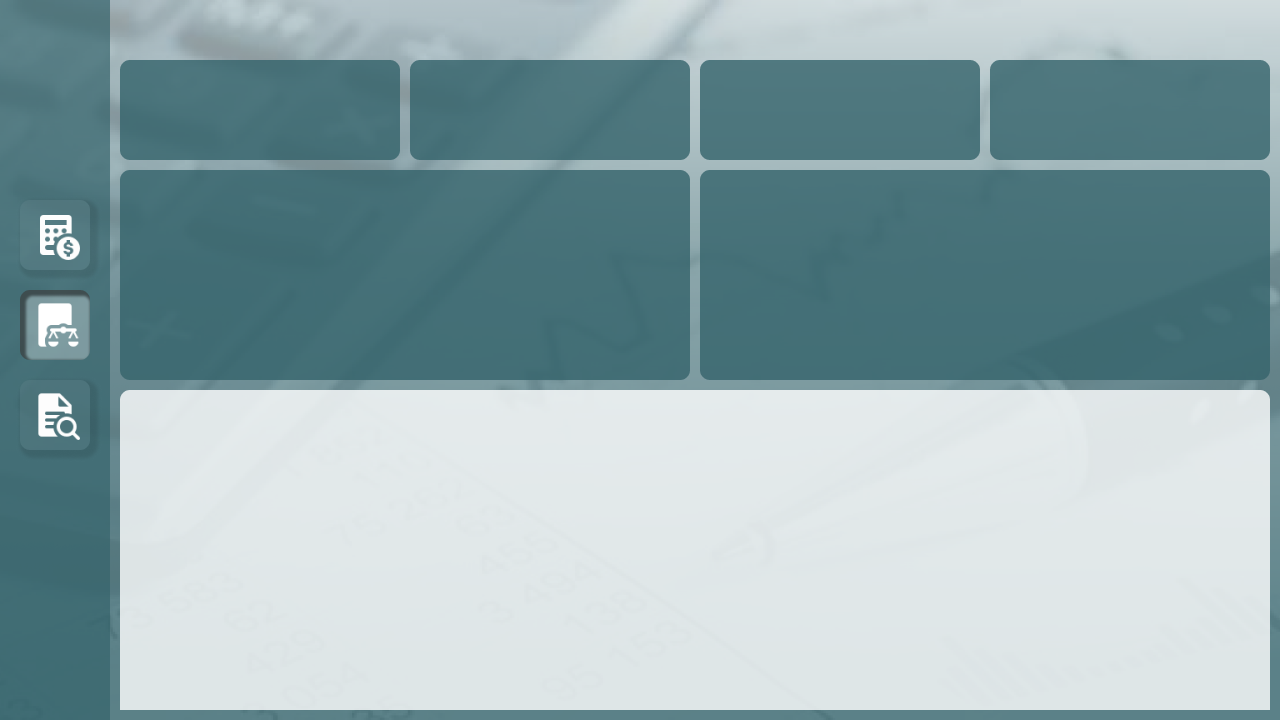

Layout of this report page (visuals, bound fields, positions):
{"tool":"powerbi","page":{"name":"BP","canvas":[1280,720],"ordinal":1},"visuals":[{"type":"pivotTable","fields":{"Rows":["dPlanodecontas.Grupo","dPlanodecontas.Subgrupo","dPlanodecontas.categoria","dPlanodecontas.Descricao_conta"],"Columns":["dCalendario.Ano"],"Values":["BP.Medida","BP.AV BP","BP.AH BP"]},"box":[123.3,389.3,1144.2,320],"z":0},{"type":"clusteredBarChart","title":"Ativo","fields":{"Y":["Medidas.Ativo"],"Category":["dPlanodecontas.Subgrupo"]},"box":[123.3,170.4,565.2,210.6],"z":1000},{"type":"clusteredBarChart","title":"Passivo","fields":{"Category":["dPlanodecontas.Subgrupo"],"Y":["Medidas.Passivo"]},"box":[698.2,170.4,569.4,210.6],"z":2000},{"type":"card","fields":{"Values":["Medidas.Composição do Endividamento"]},"box":[123.3,58.2,274.3,99.7],"z":3000},{"type":"card","fields":{"Values":["Medidas.Participação Capital Terceiros"]},"box":[411.4,58.2,277.1,102.5],"z":4000},{"type":"card","fields":{"Values":["Medidas.LG"]},"box":[989.1,58.2,278.4,102.5],"z":5000},{"type":"card","fields":{"Values":["Medidas.LC"]},"box":[698.2,55.4,281.2,102.5],"z":6000},{"type":"textbox","box":[123.3,8.3,576.3,47.1],"z":7000},{"type":"actionButton","box":[12.5,192.6,87.3,83.1],"z":8000},{"type":"actionButton","box":[12.5,371.3,87.3,79],"z":9000},{"type":"slicer","fields":{"Values":["dEmpresas.Nome_empresa"]},"box":[978,0,302,51.3],"z":10000},{"type":"actionButton","box":[33.2,599.8,47.1,36],"z":11000},{"type":"actionButton","box":[33.2,645.5,47.1,40.2],"z":12000}]}

Visuals, with their boxes on the page's 1280x720 design canvas (x1, y1, x2, y2). These are canvas units, not pixel positions in the 1280x720 screenshot, which may show the page scaled, cropped or inside an application window:
pivotTable - dPlanodecontas.Grupo x dPlanodecontas.Subgrupo: BBox(123, 389, 1268, 709)
"Ativo" clusteredBarChart: BBox(123, 170, 688, 381)
"Passivo" clusteredBarChart: BBox(698, 170, 1268, 381)
card - Medidas.Composição do Endividamento: BBox(123, 58, 398, 158)
card - Medidas.Participação Capital Terceiros: BBox(411, 58, 688, 161)
card - Medidas.LG: BBox(989, 58, 1268, 161)
card - Medidas.LC: BBox(698, 55, 979, 158)
textbox: BBox(123, 8, 700, 55)
actionButton: BBox(12, 193, 100, 276)
actionButton: BBox(12, 371, 100, 450)
slicer - dEmpresas.Nome_empresa: BBox(978, 0, 1280, 51)
actionButton: BBox(33, 600, 80, 636)
actionButton: BBox(33, 646, 80, 686)
